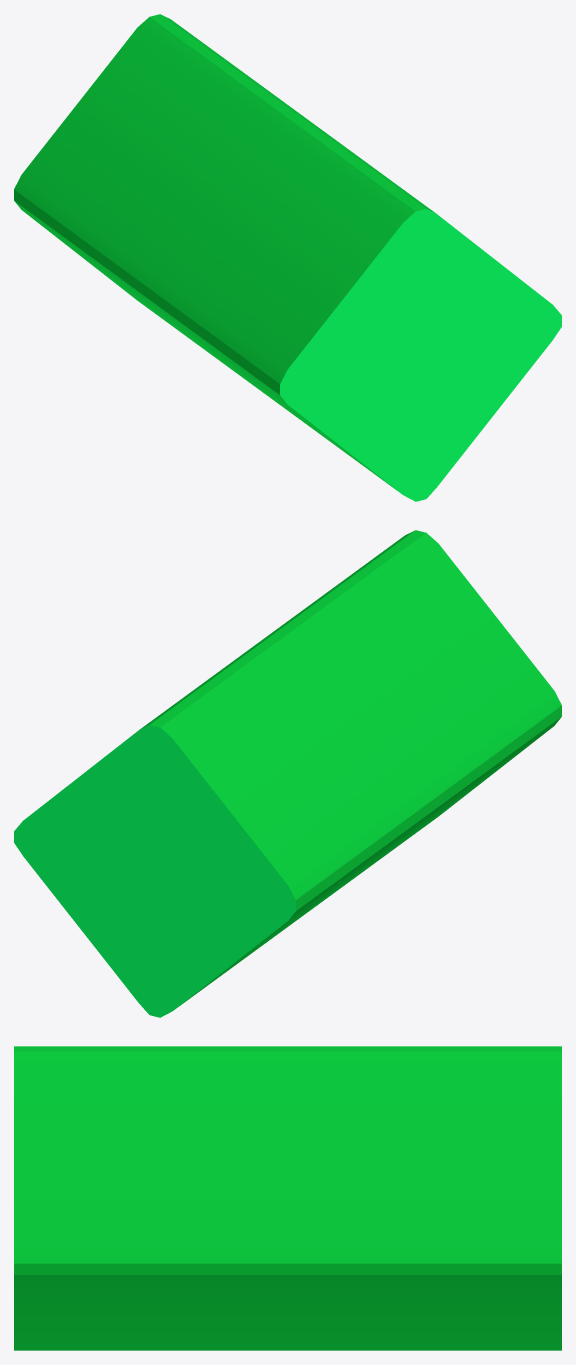
The model's file is 00c23ac3-3bcb-4ea2-b885-0788960435a3.glb.
3 views of the same model, one above another, from view 1: azimuth 30°, elevation 25°; view 2: azimuth 150°, elevation 25°; view 3: azimuth 270°, elevation 25° (orthographic). The views are drawn at different scales.
Parts seen in each view (by area): view 1: ._Soul_Green; view 2: ._Soul_Green; view 3: ._Soul_Green.
Part boxes in pixels (left/top/right/bottom): ._Soul_Green: left=14, top=14, right=561, bottom=501; ._Soul_Green: left=14, top=530, right=561, bottom=1017; ._Soul_Green: left=14, top=1046, right=561, bottom=1350.
Size of what is drawn, in the model's own units: 0.0275 by 0.0271 by 0.045.
2 materials, 2 textured.
